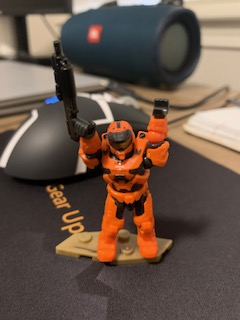rifle: (48, 41, 96, 145)
spartan: (72, 97, 171, 265)
up: (72, 98, 171, 192)
